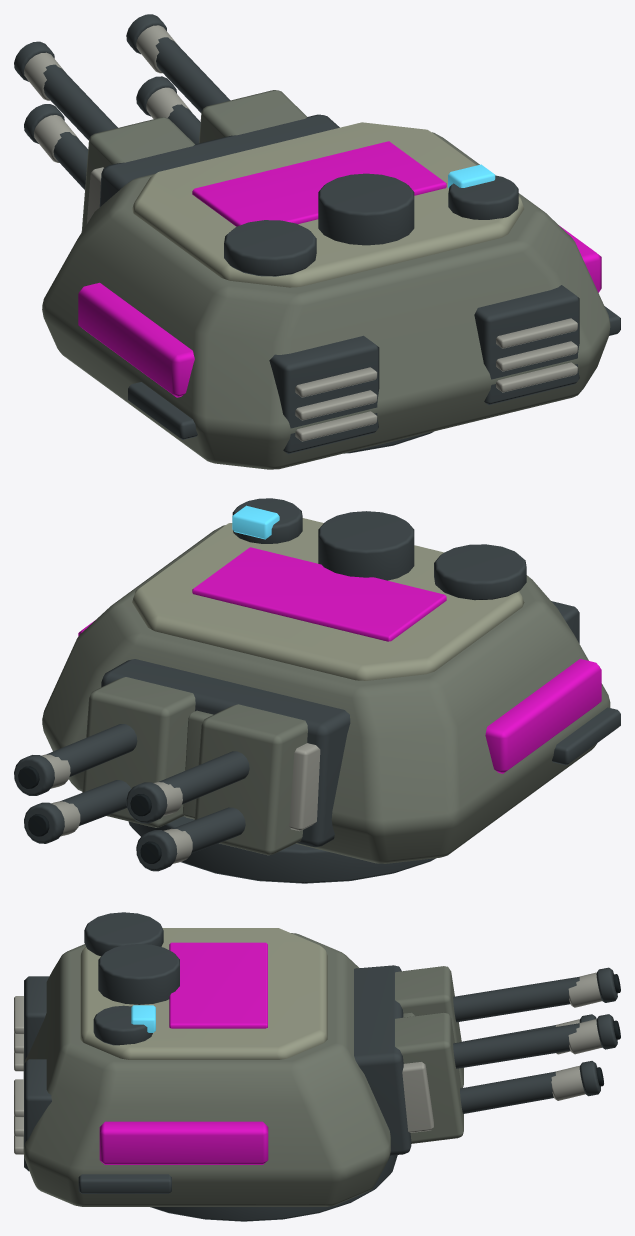
Rendered from mixed-tank-turret.glb.
3 views of the same model, one above another, from view 1: azimuth 30°, elevation 25°; view 2: azimuth 150°, elevation 25°; view 3: azimuth 270°, elevation 25° (orthographic). The views are drawn at different scales.
Visible parts, largest first — view 1: Turret; view 2: Turret; view 3: Turret.
Part boxes in pixels (x1,y1,x2,y2): Turret: (14,14,620,469); Turret: (14,498,620,883); Turret: (14,912,620,1221).
Size of the model in its own units: 1.21 by 0.6105 by 1.7.
